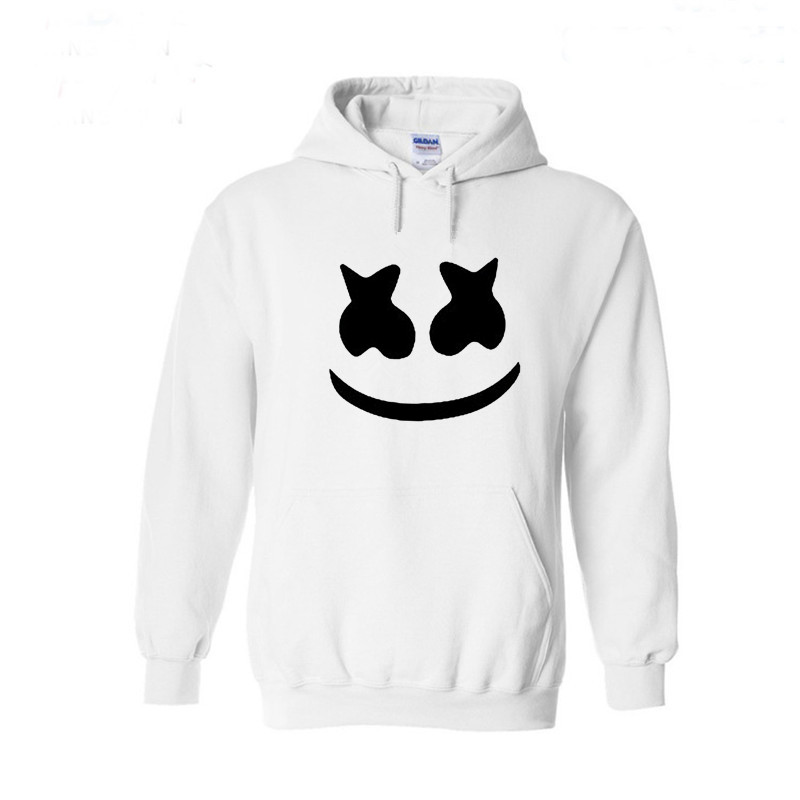T-Shirt: (121, 68, 717, 743)
